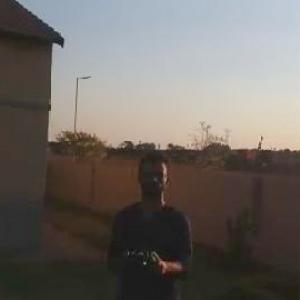follow: (100, 144, 196, 299)
